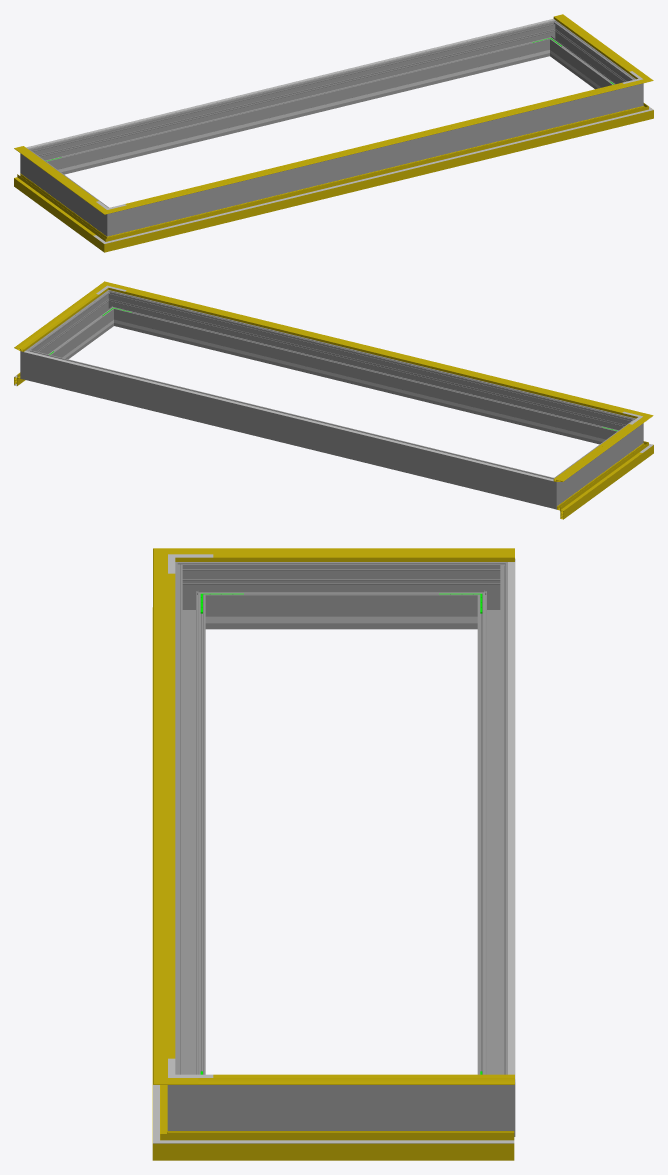
3 renders of one model, top to bottom at view 1: azimuth 30°, elevation 25°; view 2: azimuth 150°, elevation 25°; view 3: azimuth 270°, elevation 25°, orthographic. The views are drawn at different scales.
Parts seen in each view (by area): view 1: 3DGeom-278, 3DGeom-300, 3DGeom-90, 3DGeom-141, 3DGeom-299, 3DGeom-246, 3DGeom-270, 3DGeom-85, 3DGeom-222, 3DGeom-100, 3DGeom-158, 3DGeom-145 (+6 smaller); view 2: 3DGeom-300, 3DGeom-278, 3DGeom-141, 3DGeom-299, 3DGeom-241, 3DGeom-270, 3DGeom-85, 3DGeom-222, 3DGeom-158, 3DGeom-280, 3DGeom-145, 3DGeom-286 (+3 smaller); view 3: 3DGeom-270, 3DGeom-278, 3DGeom-300, 3DGeom-299, 3DGeom-97, 3DGeom-141, 3DGeom-222, 3DGeom-158, 3DGeom-147, 3DGeom-286, 3DGeom-145, 3DGeom-292 (+7 smaller).
Part boxes in pixels (<box>): 3DGeom-278: <box>41,24,546,174</box>; 3DGeom-300: <box>126,88,623,231</box>; 3DGeom-90: <box>120,109,634,247</box>; 3DGeom-141: <box>121,82,633,209</box>; 3DGeom-299: <box>551,27,628,89</box>; 3DGeom-246: <box>65,54,530,171</box>; 3DGeom-270: <box>31,155,101,227</box>; 3DGeom-85: <box>14,173,99,243</box>; 3DGeom-222: <box>26,18,554,148</box>; 3DGeom-100: <box>122,113,633,239</box>; 3DGeom-158: <box>125,83,623,205</box>; 3DGeom-145: <box>553,14,641,76</box>; 3DGeom-300: <box>117,294,621,444</box>; 3DGeom-278: <box>40,353,540,504</box>; 3DGeom-141: <box>118,286,633,416</box>; 3DGeom-299: <box>35,297,112,359</box>; 3DGeom-241: <box>133,324,598,440</box>; 3DGeom-270: <box>562,425,632,497</box>; 3DGeom-85: <box>557,448,642,519</box>; 3DGeom-222: <box>24,351,553,481</box>; 3DGeom-158: <box>125,290,623,412</box>; 3DGeom-280: <box>537,472,567,509</box>; 3DGeom-145: <box>14,289,102,351</box>; 3DGeom-286: <box>20,344,43,383</box>; 3DGeom-270: <box>213,562,469,629</box>; 3DGeom-278: <box>477,578,507,1074</box>; 3DGeom-300: <box>175,578,205,1074</box>; 3DGeom-299: <box>213,1085,469,1130</box>; 3DGeom-97: <box>198,1131,514,1160</box>; 3DGeom-141: <box>153,567,167,1064</box>; 3DGeom-222: <box>508,562,515,1078</box>; 3DGeom-158: <box>168,573,175,1058</box>; 3DGeom-147: <box>198,548,514,561</box>; 3DGeom-286: <box>470,1063,515,1136</box>; 3DGeom-145: <box>198,1078,514,1084</box>; 3DGeom-292: <box>167,1063,212,1130</box>.
Size of the model in its own units: 4.27 by 0.2829 by 1.22.
